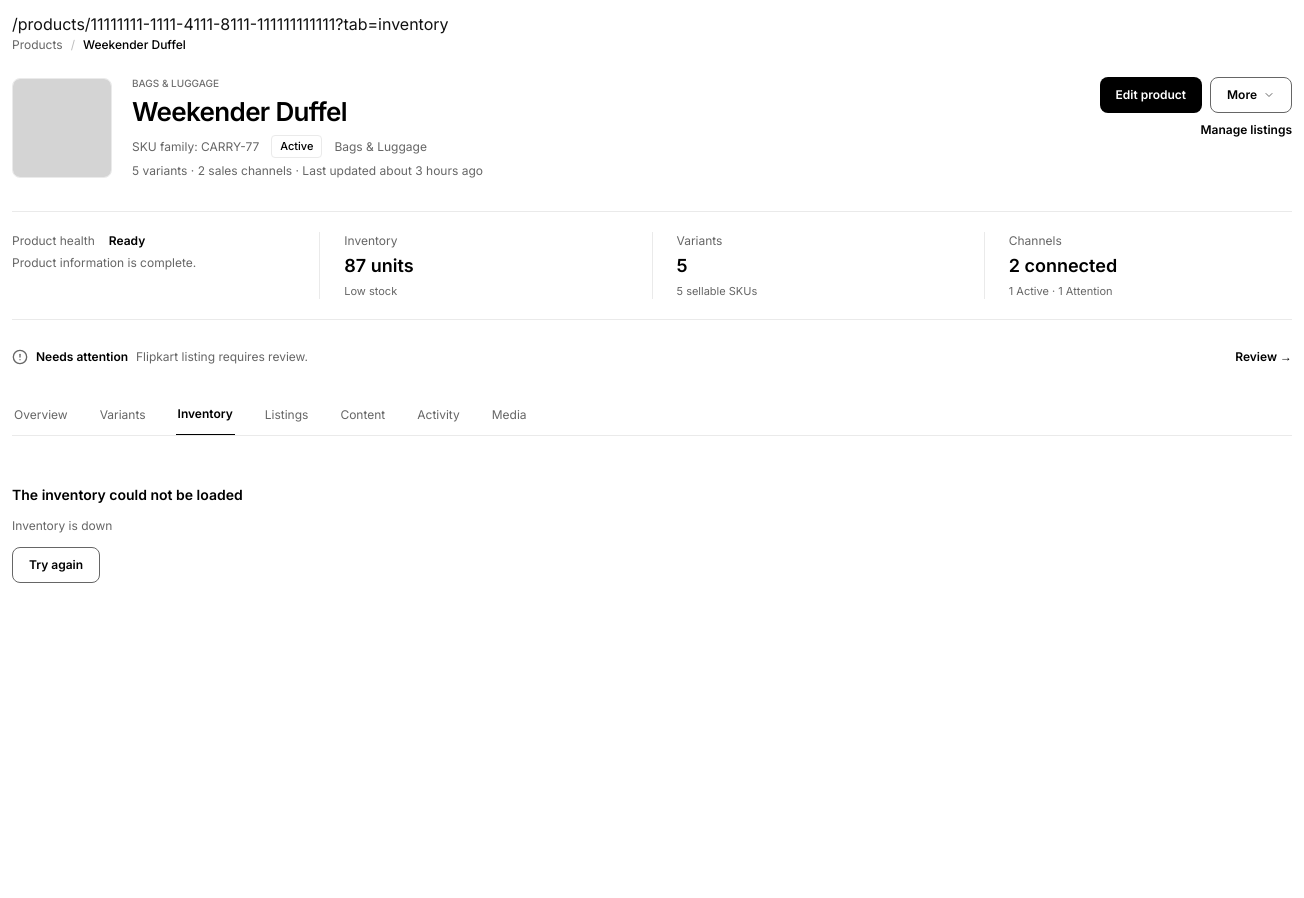
it: ProductDetailPage: not found and errors › a tab that fails shows its own error with retry
Expected: the text "The inventory could not be loaded" is shown, [12, 484, 243, 505]
Step 1. Click the button "Try again" → (56, 565), box [12, 547, 100, 583]
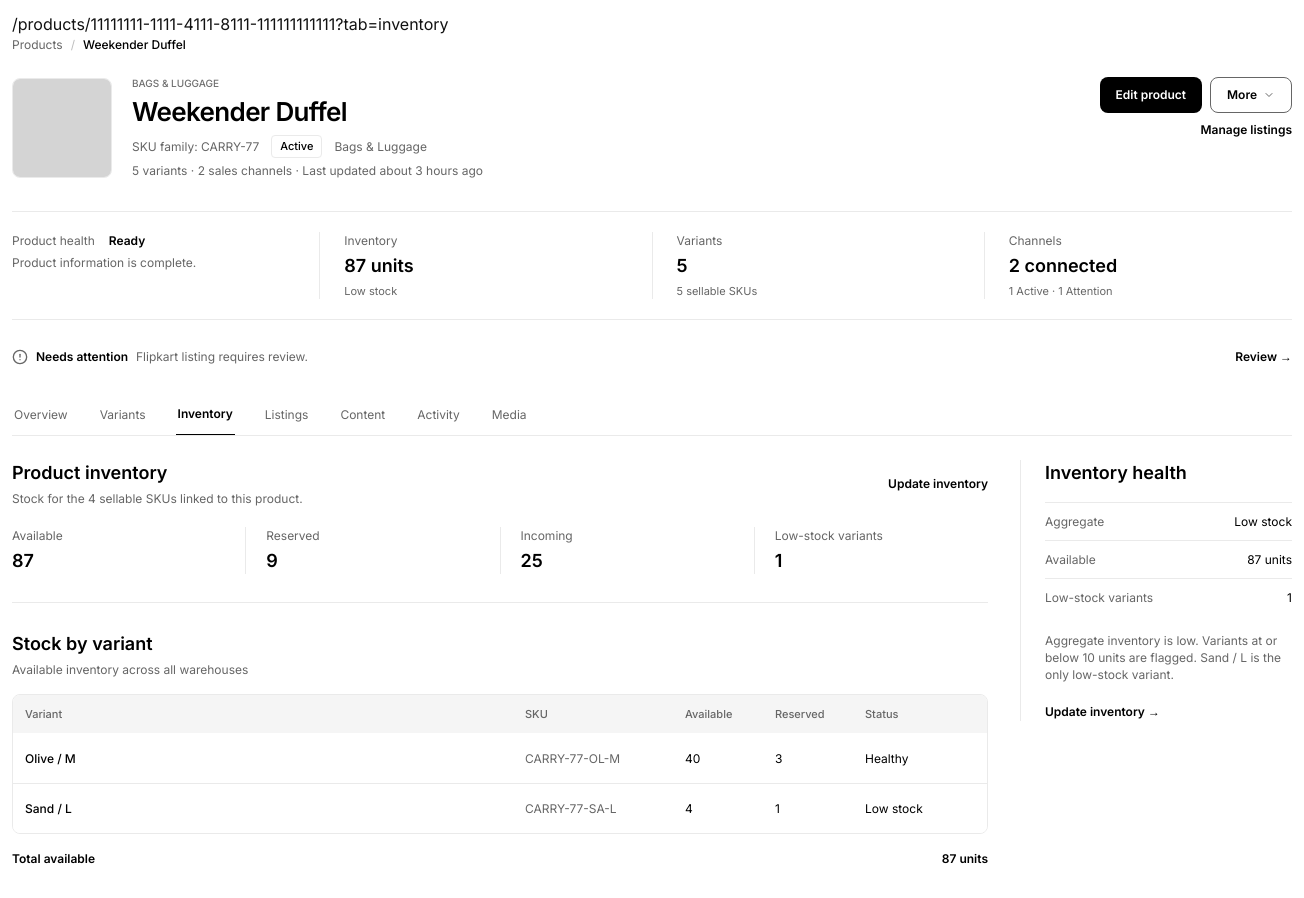
Expected: the heading "Stock by variant" is shown, [12, 631, 153, 657]
